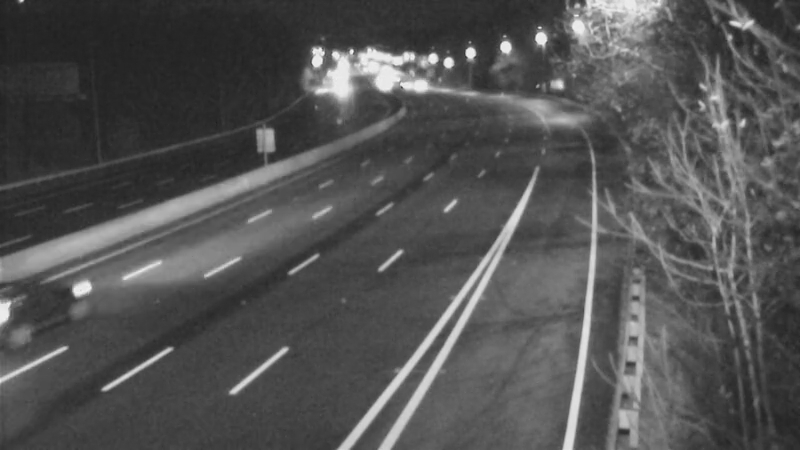vehicle: (1, 254, 103, 364), (394, 58, 444, 108), (358, 59, 408, 109)
